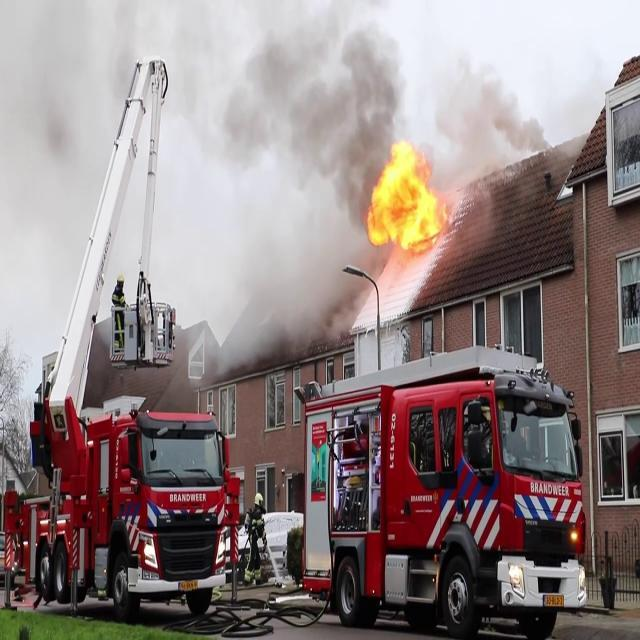Fire: (365, 136, 454, 258)
Smoke: (208, 2, 398, 352), (422, 46, 550, 180)
